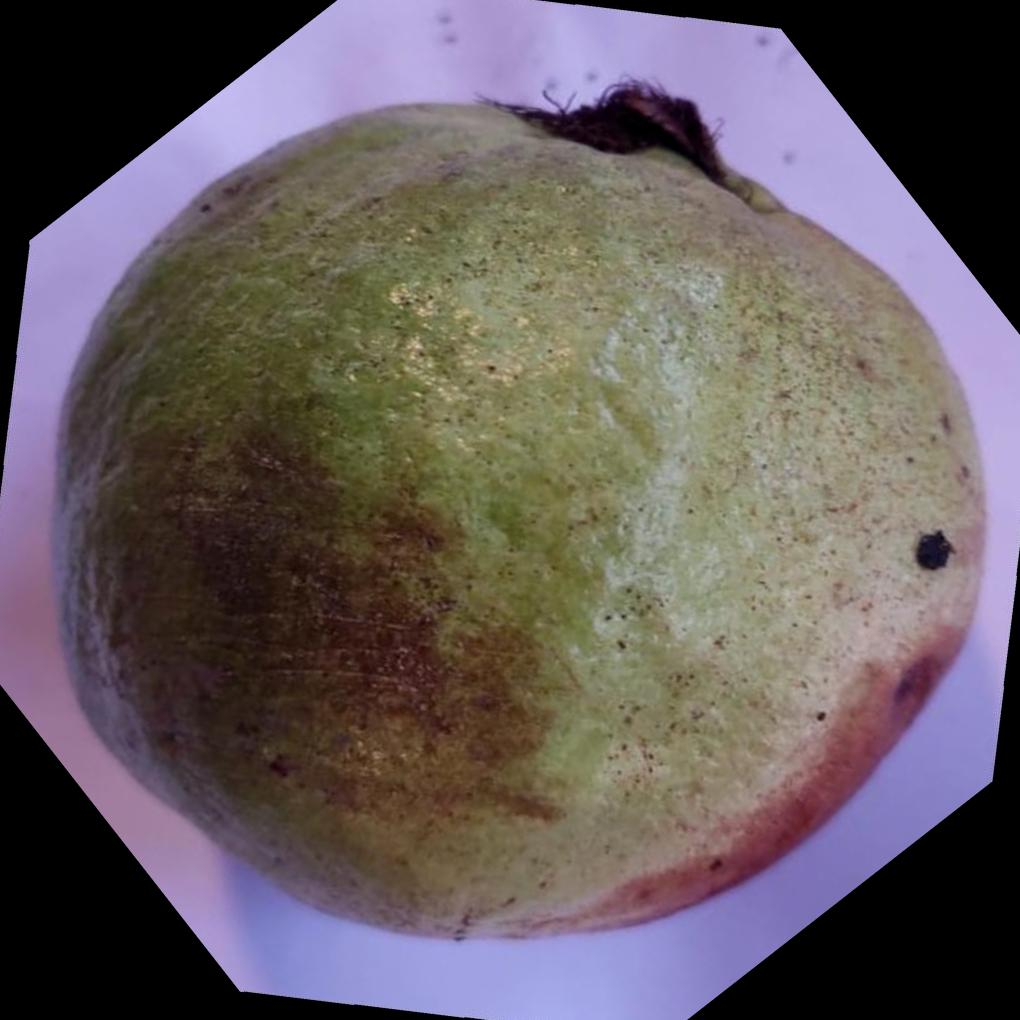FreshOrange: (50, 96, 986, 940)
